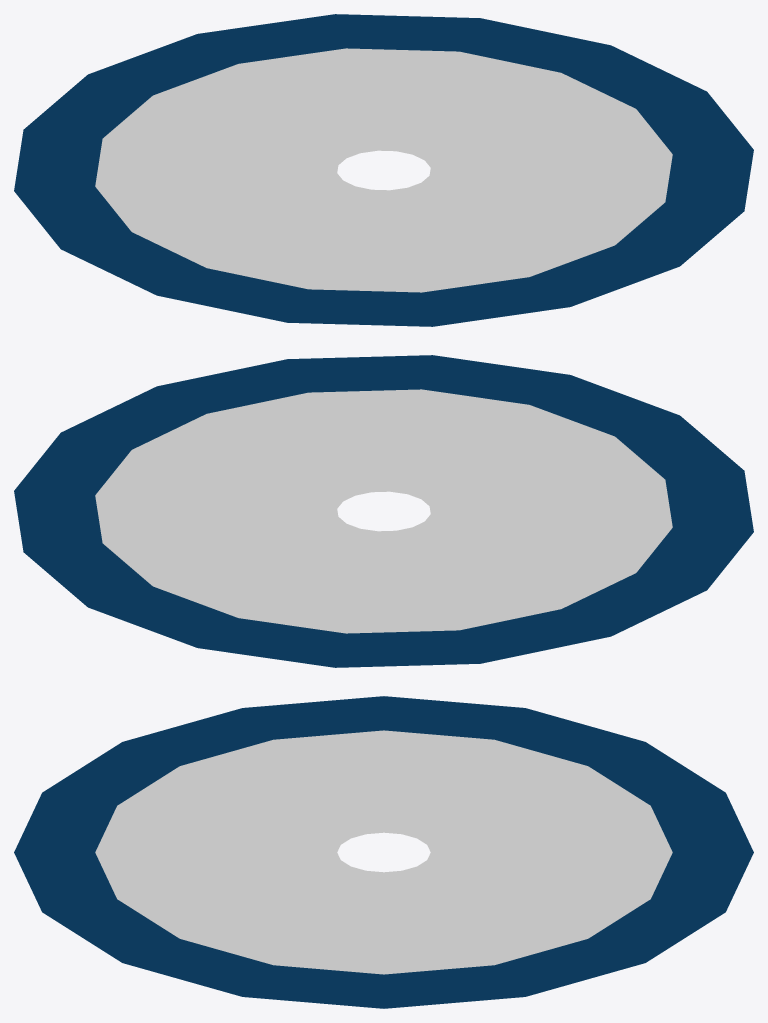
File: capzone marker.FBX
3 views of the same model, one above another, from view 1: azimuth 30°, elevation 25°; view 2: azimuth 150°, elevation 25°; view 3: azimuth 270°, elevation 25° (orthographic).
Parts seen in each view (by area): view 1: Cylinder001; view 2: Cylinder001; view 3: Cylinder001.
Boxes of the visible parts, x1,y1,x2,y2 form: Cylinder001: (14,14,753,326); Cylinder001: (14,355,753,667); Cylinder001: (14,696,753,1008).
Size of the model in its own units: 137 by 8.4e-15 by 137.
Materials: 1 (1 with a texture image).
